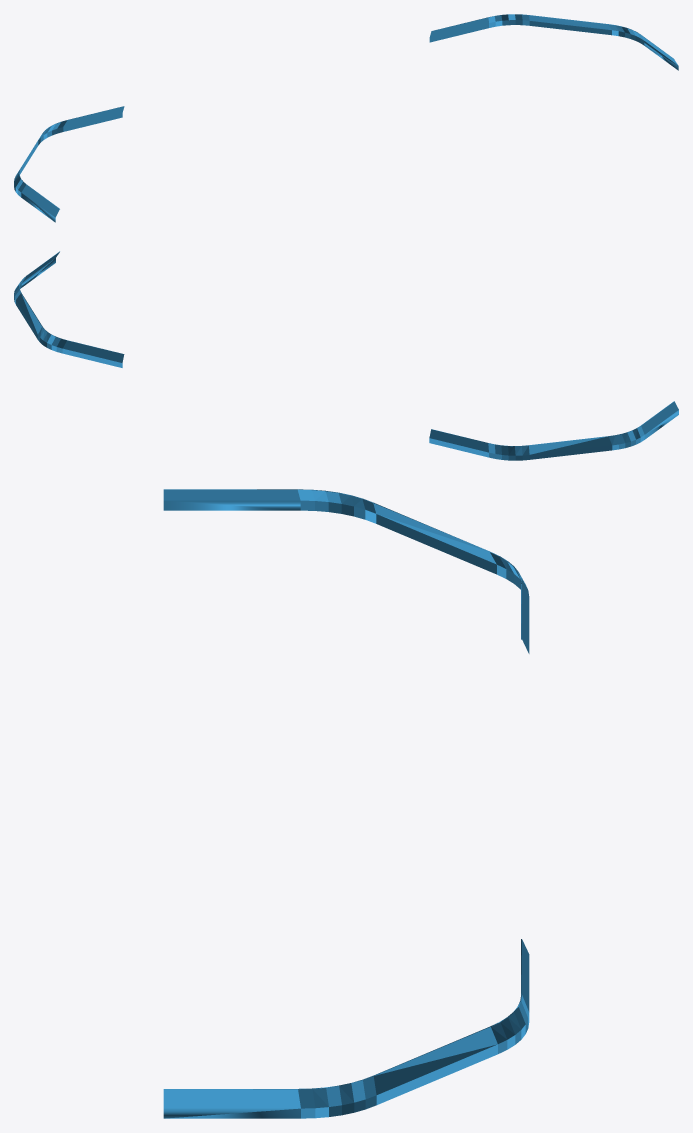
File: plate_64_cap_c_trim_railing_a.glb
The picture shows the model from 3 angles, top to bottom: view 1: azimuth 30°, elevation 25°; view 2: azimuth 150°, elevation 25°; view 3: azimuth 270°, elevation 25°; orthographic projection. The views are drawn at different scales.
Size of the model in its own units: 65 by 1.25 by 16.5.
